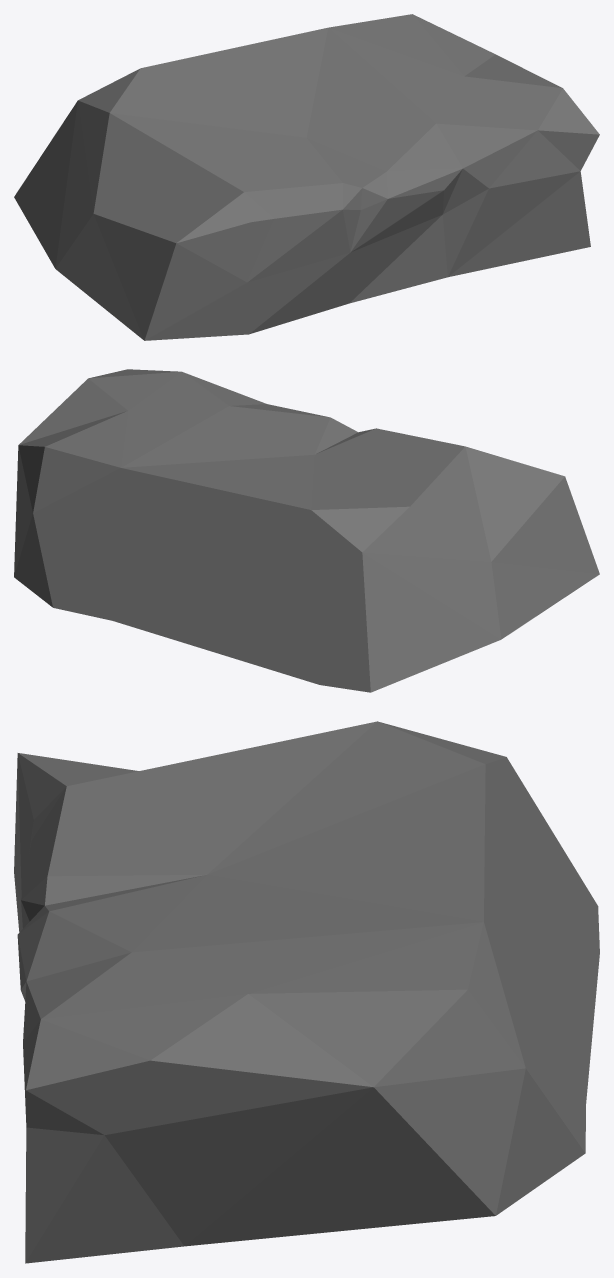
Rendered from rock_010.glb.
The picture shows the model from 3 angles, top to bottom: view 1: azimuth 30°, elevation 25°; view 2: azimuth 150°, elevation 25°; view 3: azimuth 270°, elevation 25°; orthographic projection. The views are drawn at different scales.
Visible parts, largest first — view 1: rock_010; view 2: rock_010; view 3: rock_010.
Boxes of the visible parts, bbox=[...] form: rock_010: bbox=[14, 14, 599, 340]; rock_010: bbox=[14, 369, 599, 692]; rock_010: bbox=[14, 721, 599, 1263].
Bounding box in the file's own units: 44.61 × 14.56 × 29.87.
1 material, 1 textured.
